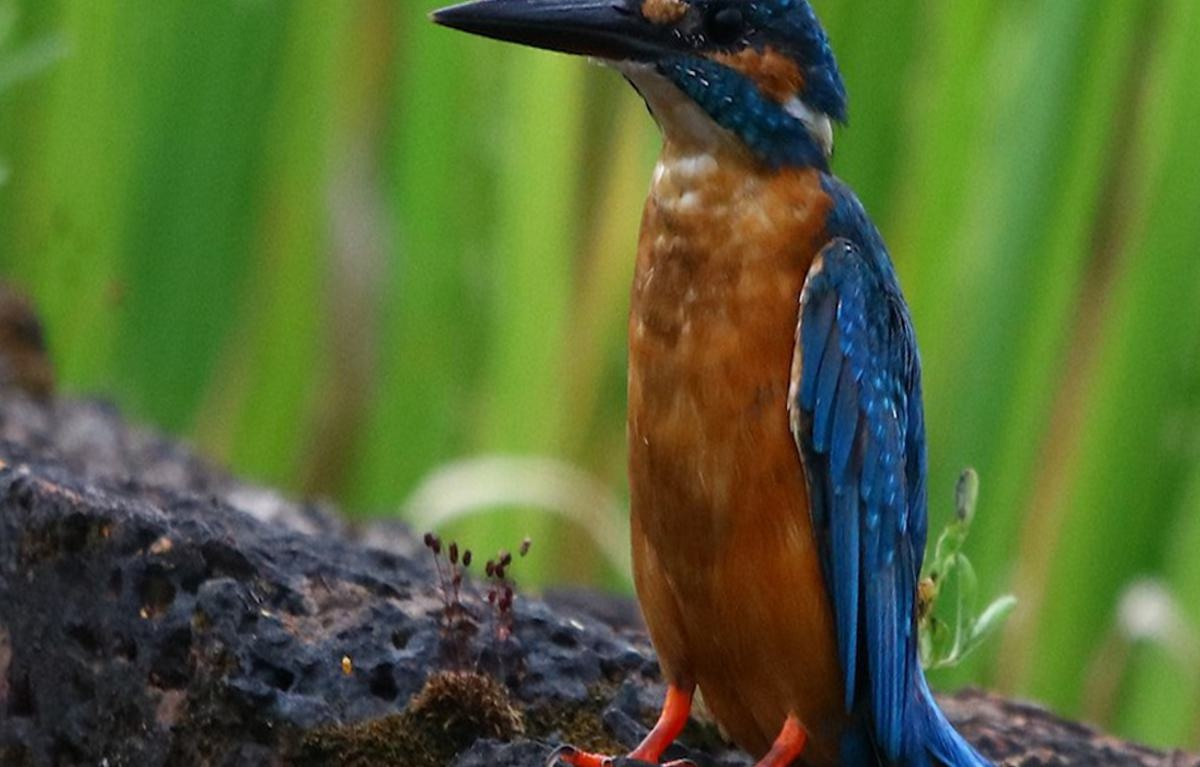kingfisher: (426, 1, 988, 766)
